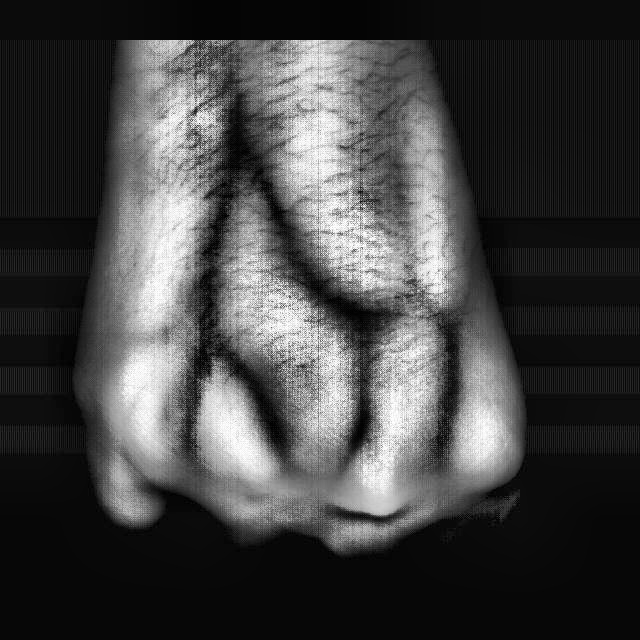Vein: (192, 109, 251, 318)
